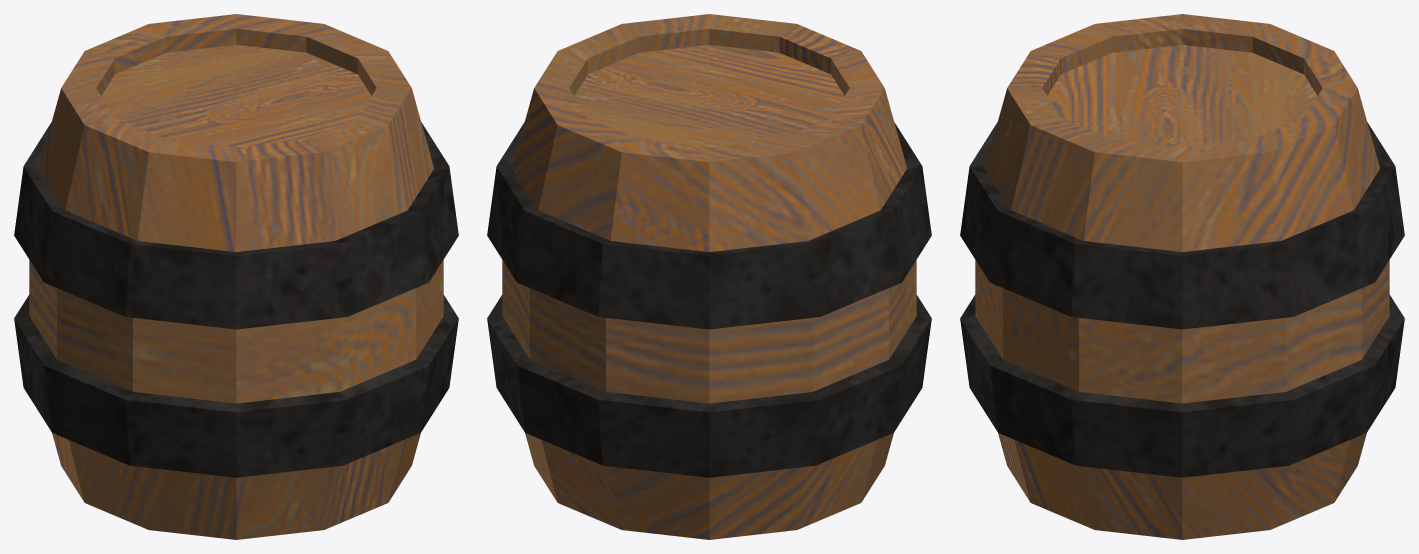
File: Barrel.fbx
The picture shows the model from 3 angles, left to right: view 1: azimuth 30°, elevation 25°; view 2: azimuth 150°, elevation 25°; view 3: azimuth 270°, elevation 25°; orthographic projection.
Visible parts, largest first — view 1: Wood Barrel; view 2: Wood Barrel; view 3: Wood Barrel.
Boxes of the visible parts, left/top/right/bottom form: Wood Barrel: left=14, top=14, right=458, bottom=539; Wood Barrel: left=487, top=14, right=931, bottom=539; Wood Barrel: left=960, top=14, right=1404, bottom=539.
Size of the model in its own units: 98.94 by 92.72 by 98.94.
